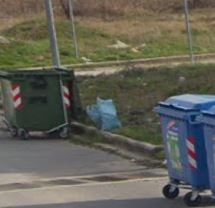trash: (81, 96, 124, 137)
